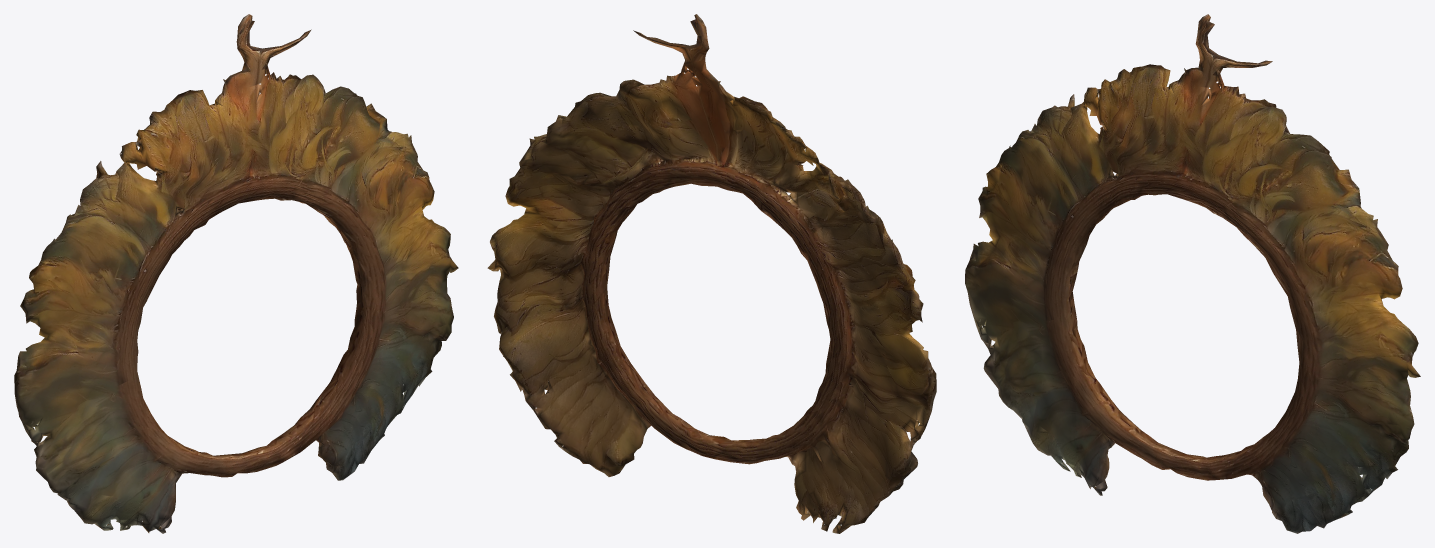
3 views of the same model, side by side, from view 1: azimuth 30°, elevation 25°; view 2: azimuth 150°, elevation 25°; view 3: azimuth 330°, elevation 25° (orthographic).
Visible parts, largest first — view 1: ME1193; view 2: ME1193; view 3: ME1193.
Boxes of the visible parts, x1=… form: ME1193: x1=14, y1=14, x2=458, y2=533; ME1193: x1=487, y1=14, x2=936, y2=533; ME1193: x1=965, y1=14, x2=1420, y2=533.
Size of the model in its own units: 1.67 by 1.75 by 0.1646.
1 material, 1 textured.
